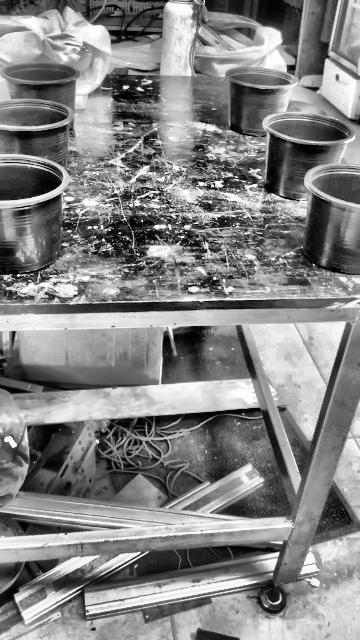pot: (0, 155, 66, 275), (263, 112, 354, 199), (303, 165, 360, 276), (0, 98, 73, 168), (227, 67, 296, 134), (1, 63, 79, 110)
